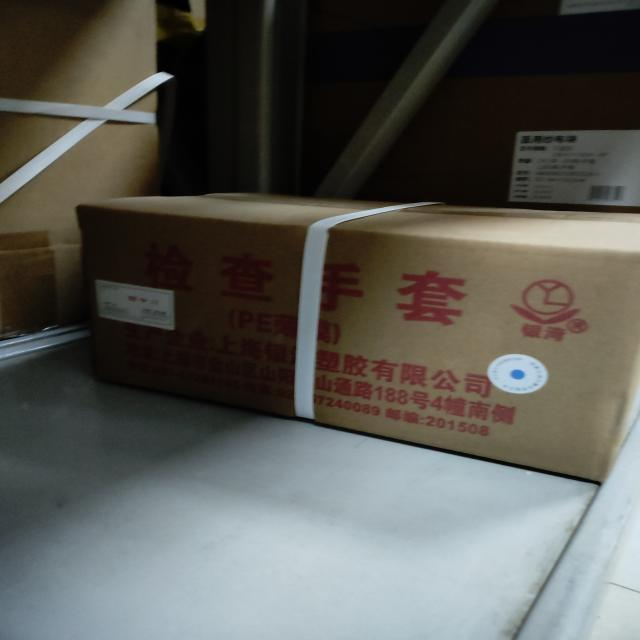box: (85, 191, 640, 487), (0, 3, 158, 334), (447, 81, 640, 216)
